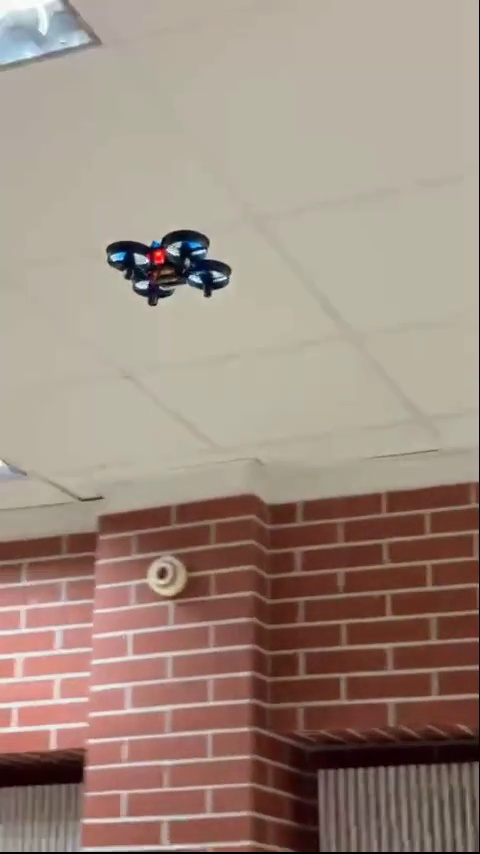drone: (105, 231, 229, 304)
